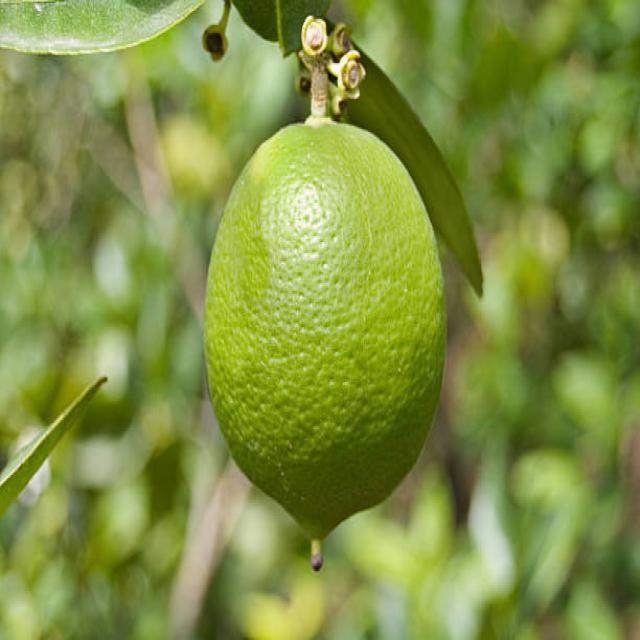Unripe: (202, 117, 448, 541)
